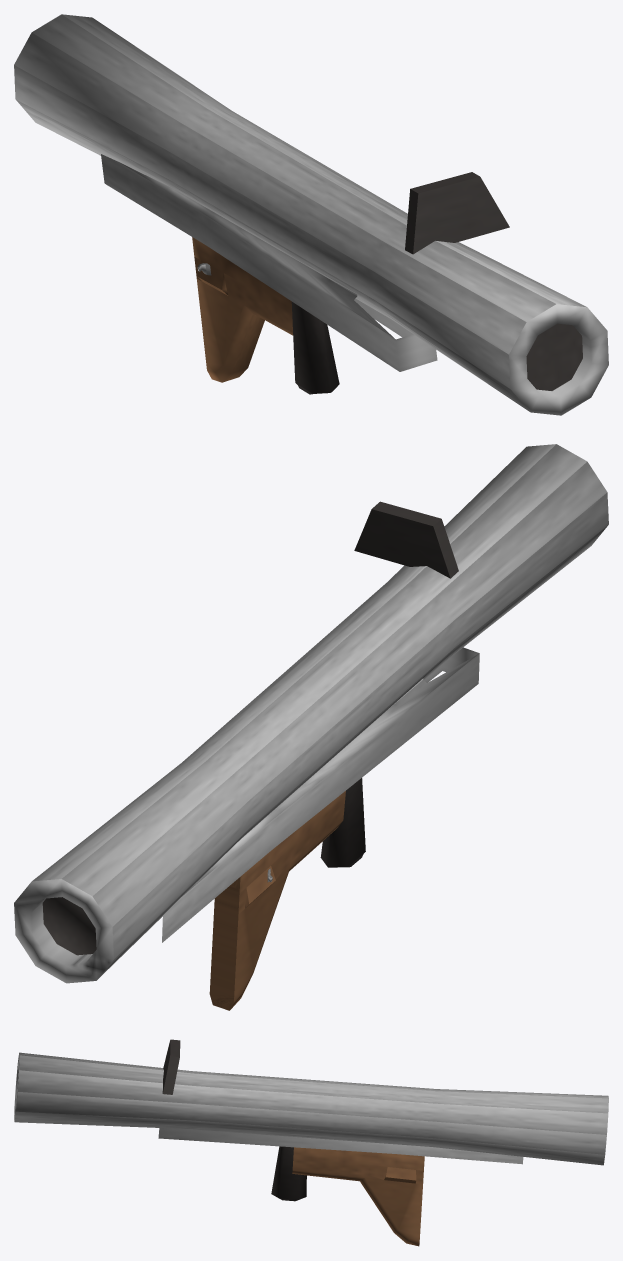
Rendered from bazuca.dae.
3 views of the same model, one above another, from view 1: azimuth 30°, elevation 25°; view 2: azimuth 150°, elevation 25°; view 3: azimuth 270°, elevation 25° (orthographic). The views are drawn at different scales.
Visible parts, largest first — view 1: plama_rpg; view 2: plama_rpg; view 3: plama_rpg.
Part boxes in pixels (x1,y1,x2,y2): plama_rpg: (14,14,608,415); plama_rpg: (14,444,608,1010); plama_rpg: (14,1039,608,1246).
Size of the model in its own units: 0.3968 by 2.79 by 1.05.
Materials: 1 (1 with a texture image).
